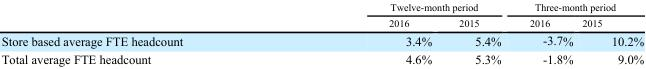table: (0, 0, 643, 66)
table column: (0, 0, 285, 66), (285, 0, 444, 66), (444, 0, 514, 66), (577, 0, 643, 66), (514, 0, 577, 66)
table column header: (0, 0, 643, 30)
table row: (0, 30, 643, 49), (0, 49, 643, 66), (0, 14, 643, 30), (0, 0, 643, 14)
table spanning cell: (285, 0, 514, 14), (514, 0, 643, 14)
